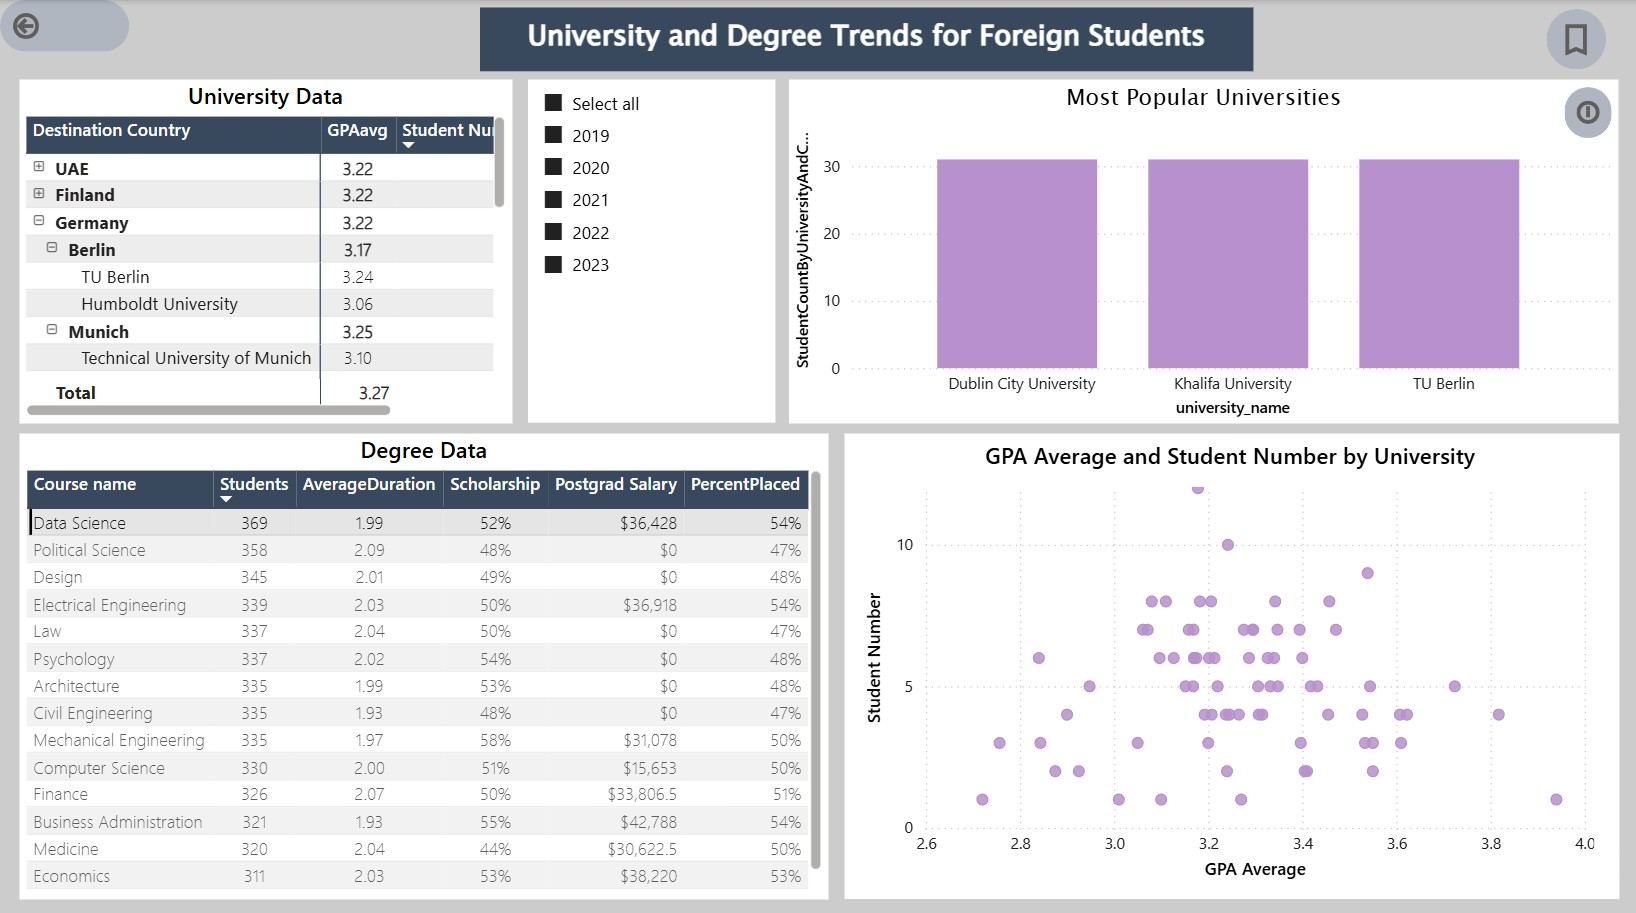

This screenshot's page, from the dashboard's own definition file:
{"tool":"powerbi","page":{"name":"Degrees","canvas":[1280,720],"ordinal":2},"visuals":[{"type":"shape","box":[652.4,334.7,599.2,359.9],"z":0},{"type":"pivotTable","title":"University Data","fields":{"Rows":["global_student_migration.destination_country Hierarchy.Destination Country","global_student_migration.destination_country Hierarchy.Destination City","global_student_migration.university_name"],"Values":["global_student_migration.GPAavg","global_student_migration.StudentN"]},"box":[15,61.4,380.4,265.2],"z":1000},{"type":"tableEx","title":"Degree Data","fields":{"Values":["global_student_migration.course_name","global_student_migration.StudentN","global_student_migration.MedianDuration","global_student_migration.ProportionScholarship","global_student_migration.Median Placement Salary","global_student_migration.PercentPlaced"]},"box":[15,334.7,625.1,359.9],"z":2000},{"type":"slicer","title":"Year of Enrollment","fields":{"Values":["global_student_migration.year_of_enrollment"]},"box":[408.3,61.4,191.6,265.2],"z":3000},{"type":"columnChart","title":"Most Popular Universities","fields":{"Category":["global_student_migration.university_name"],"Y":["global_student_migration.StudentCountByUniversityAndCourse"]},"box":[610.1,61.4,641.5,265.9],"z":4000},{"type":"scatterChart","fields":{"X":["global_student_migration.GPAavg"],"Y":["global_student_migration.Student Number"],"Category":["global_student_migration.university_name"]},"box":[664,340.2,573.3,344.9],"z":5000},{"type":"textbox","box":[371.5,6.1,597.9,49.1],"z":6000},{"type":"actionButton","box":[0,0,100,40],"z":7000},{"type":"actionButton","box":[1209.4,67.3,36.5,39.6],"z":8000},{"type":"actionButton","box":[1195.2,6.5,46.1,46.9],"z":9000}]}

Visuals, with their boxes in screenshot pixels (x1, y1, x2, y2), scaled from the page's 1280x720 canvas onto the 1636x913 screenshot:
shape: bbox=(834, 424, 1600, 881)
"University Data" pivotTable: bbox=(19, 78, 505, 414)
"Degree Data" tableEx: bbox=(19, 424, 818, 881)
"Year of Enrollment" slicer: bbox=(522, 78, 767, 414)
"Most Popular Universities" columnChart: bbox=(780, 78, 1600, 415)
scatterChart - global_student_migration.GPAavg x global_student_migration.Student Number: bbox=(849, 431, 1581, 869)
textbox: bbox=(475, 8, 1239, 70)
actionButton: bbox=(0, 0, 128, 51)
actionButton: bbox=(1546, 85, 1592, 136)
actionButton: bbox=(1528, 8, 1587, 68)
